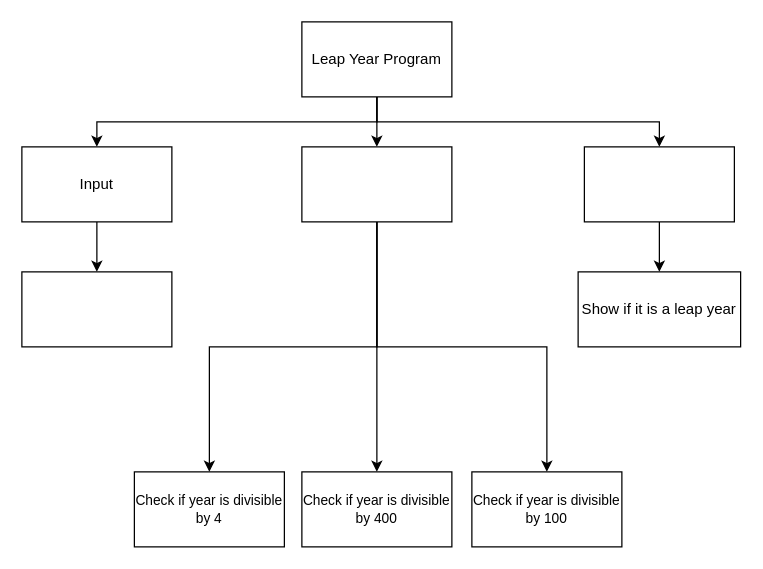
Image size: 763x569. Some labels were removed from this diagram. The centre of each missing label's shape, as x and y in pixels:
"Get year" belongs at point 96,309.
"Output" belongs at point 658,184.
"Process" belongs at point 376,184.
